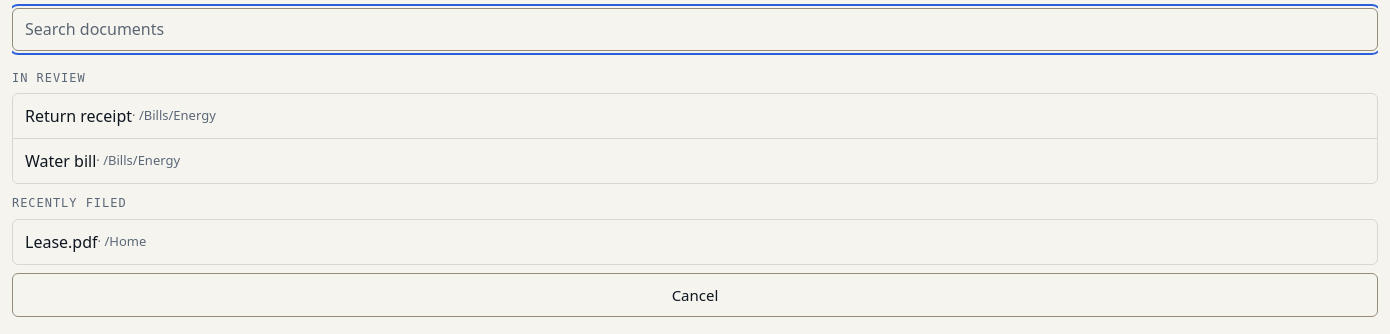
Scenario: DocumentChooser: file with › narrows the lists by search
Type "water" into the search field labelled "Search documents". click: (695, 29)
box: [12, 8, 1378, 51]
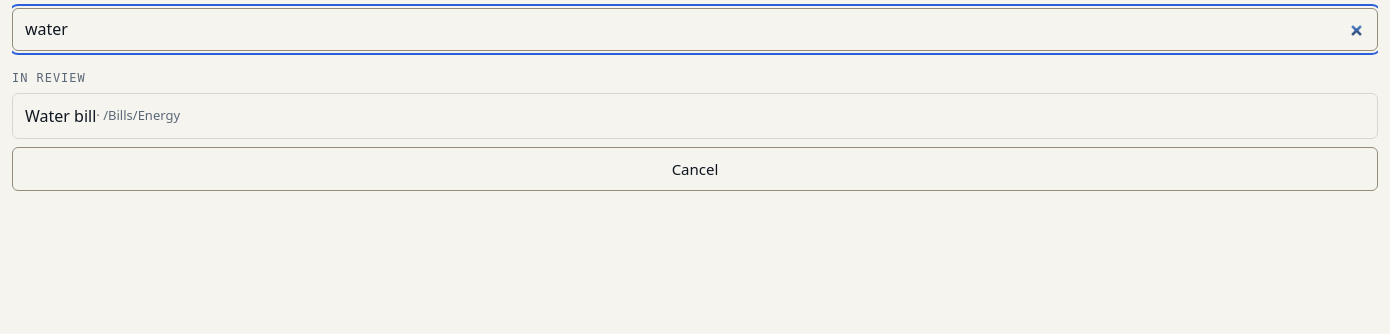
Check: the button "Water bill · /Bills/Energy" is shown, box [13, 94, 1377, 138]
Check: the button "Return receipt" is gone
Check: the button "Lease" is gone
